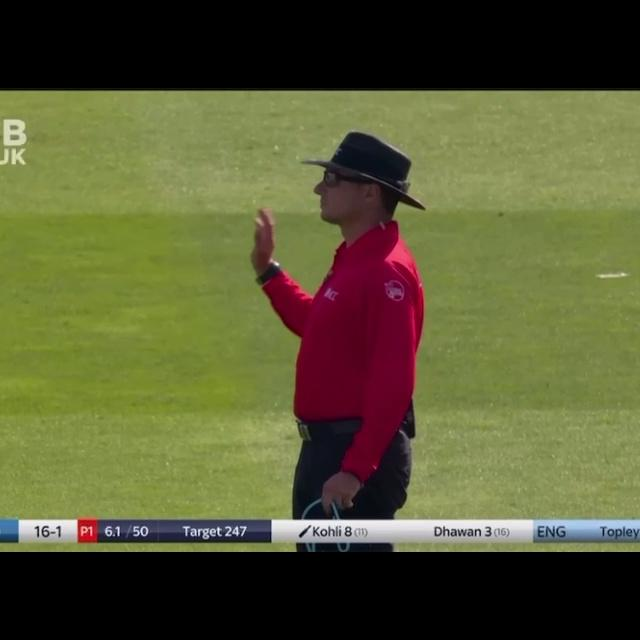umpire: (241, 121, 444, 524)
